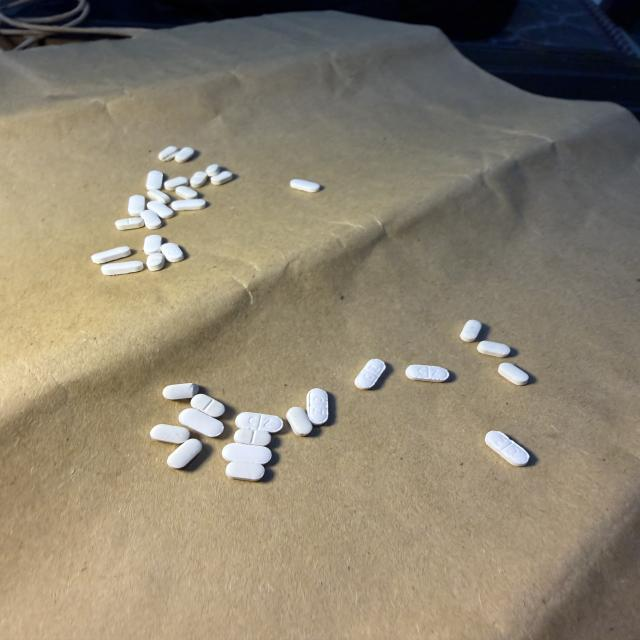pill: (485, 431, 529, 466), (179, 409, 223, 437), (222, 443, 271, 464), (167, 439, 202, 468), (236, 413, 282, 433), (355, 359, 385, 389), (286, 407, 313, 436), (150, 424, 189, 444), (191, 394, 224, 417), (307, 389, 328, 425), (406, 365, 449, 382), (226, 462, 264, 481), (91, 246, 131, 264), (498, 363, 528, 385), (234, 429, 271, 446), (101, 261, 143, 275), (163, 383, 198, 399), (478, 341, 510, 357), (460, 320, 481, 342), (171, 199, 206, 211), (161, 243, 183, 262), (147, 202, 173, 218), (290, 179, 320, 192), (141, 210, 161, 229), (144, 235, 162, 255), (128, 195, 145, 215), (147, 253, 165, 271), (146, 171, 163, 190), (148, 190, 171, 204), (116, 218, 144, 229), (211, 171, 233, 185), (159, 146, 179, 161), (174, 147, 194, 162), (165, 177, 188, 190), (176, 186, 197, 199), (190, 172, 208, 187), (206, 164, 220, 176)
